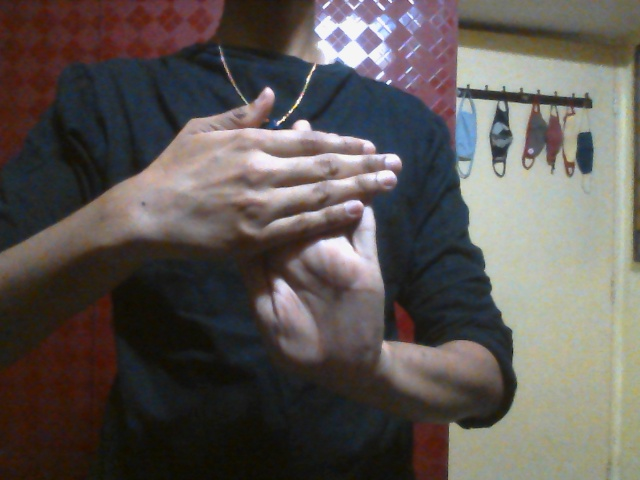H: (148, 86, 401, 377)
